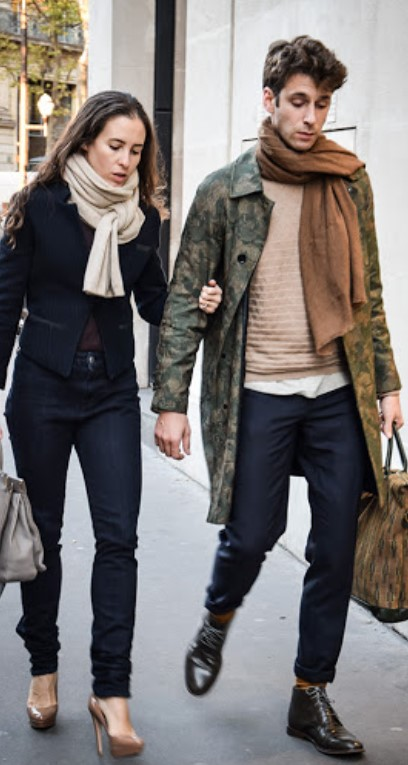face_no_mask: (257, 43, 336, 154), (76, 88, 152, 191)
